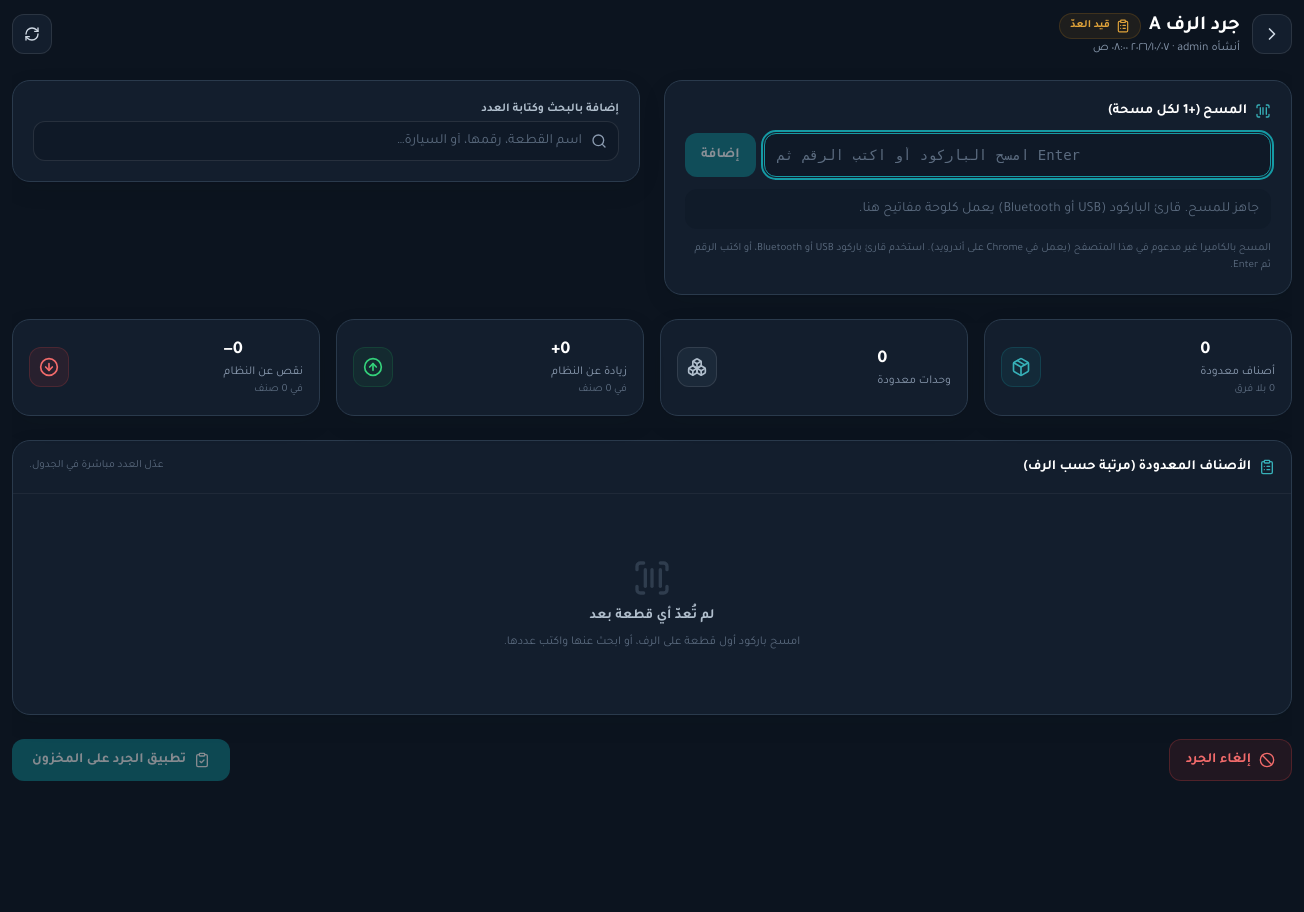
Test case: StockCountSheet › كل مسحة +1، والمسحات تُرسل بالتتابع لا بالتوازي
This screenshot has width=1304, height=912.
Type "OF-100" into the field named "الباركود أو رقم القطعة" at (1017, 155), box [764,133,1271,177]
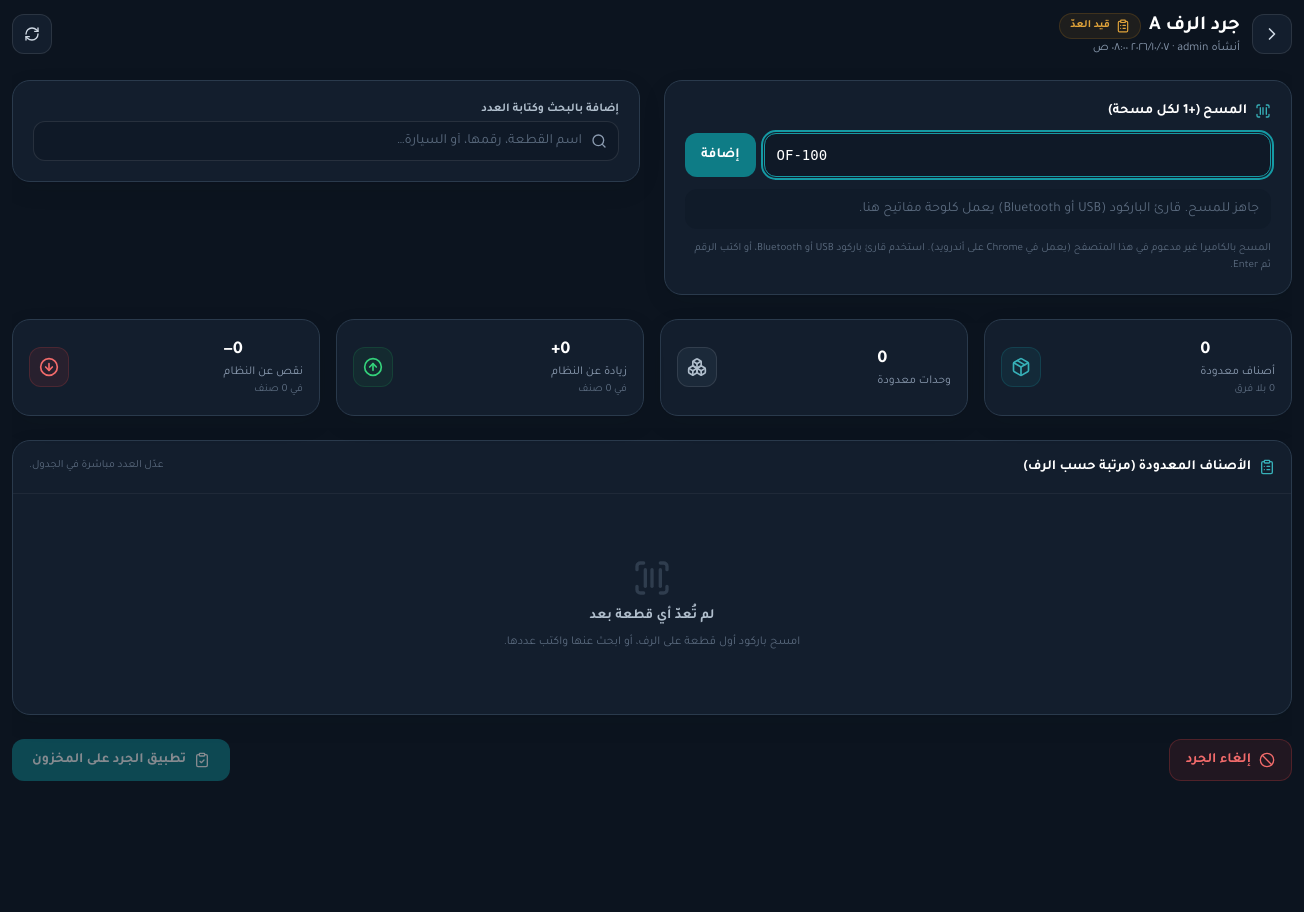
Submit the form named "الباركود أو رقم القطعة", box [685,133,1271,177]
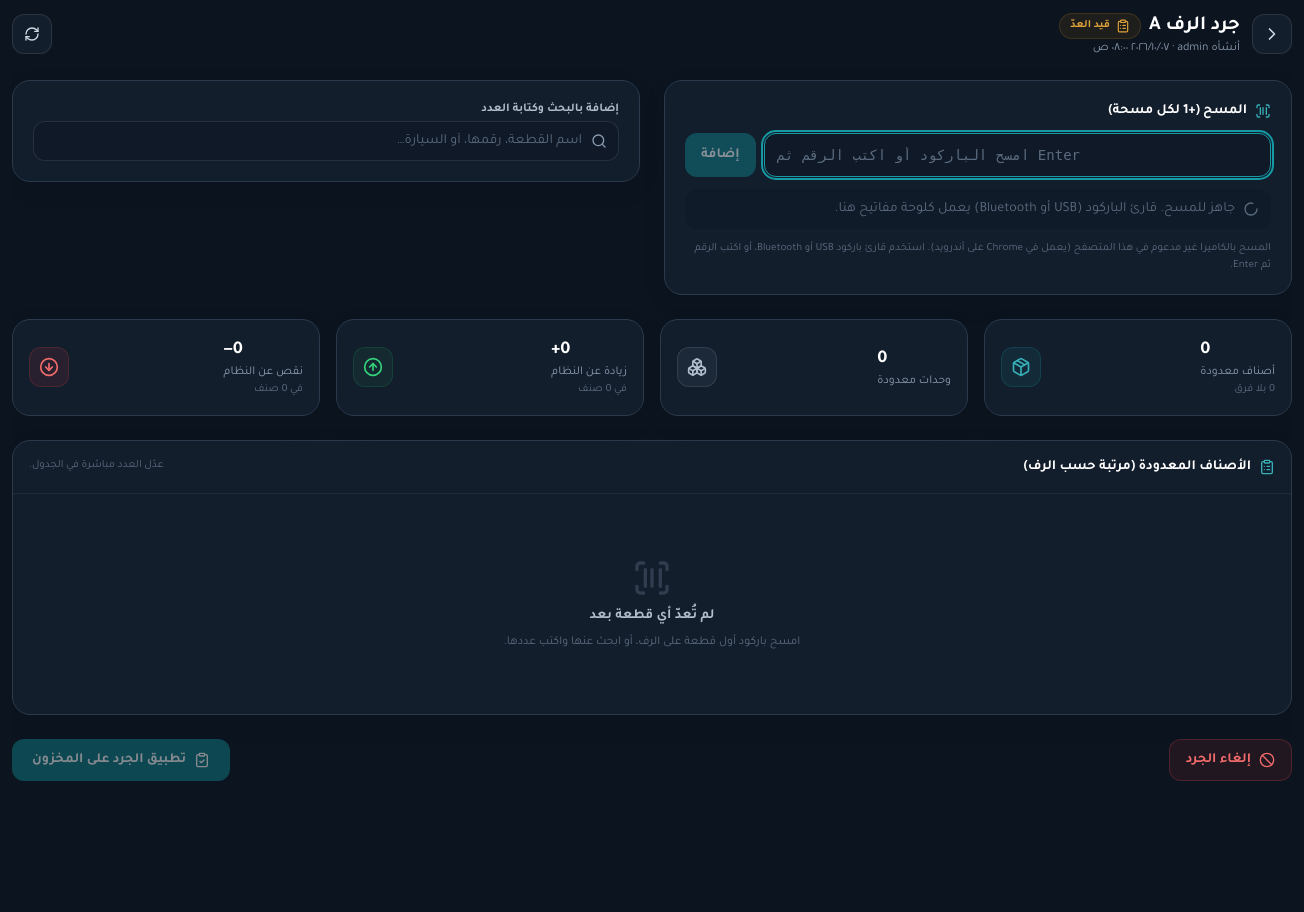
Type " OF-١٠٠ " into the field named "الباركود أو رقم القطعة" at (1017, 155), box [764,133,1271,177]
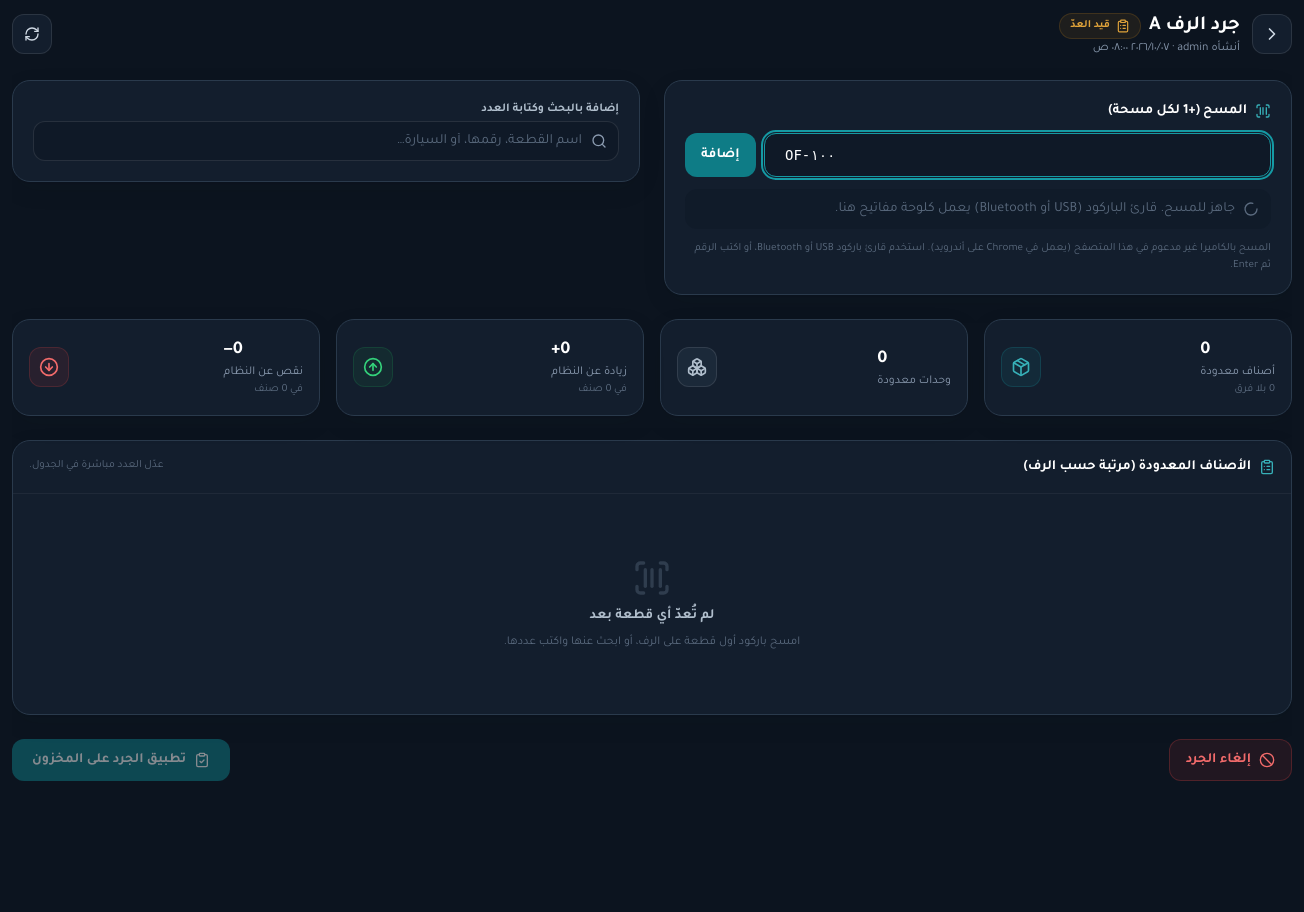
Submit the form named "الباركود أو رقم القطعة", box [685,133,1271,177]
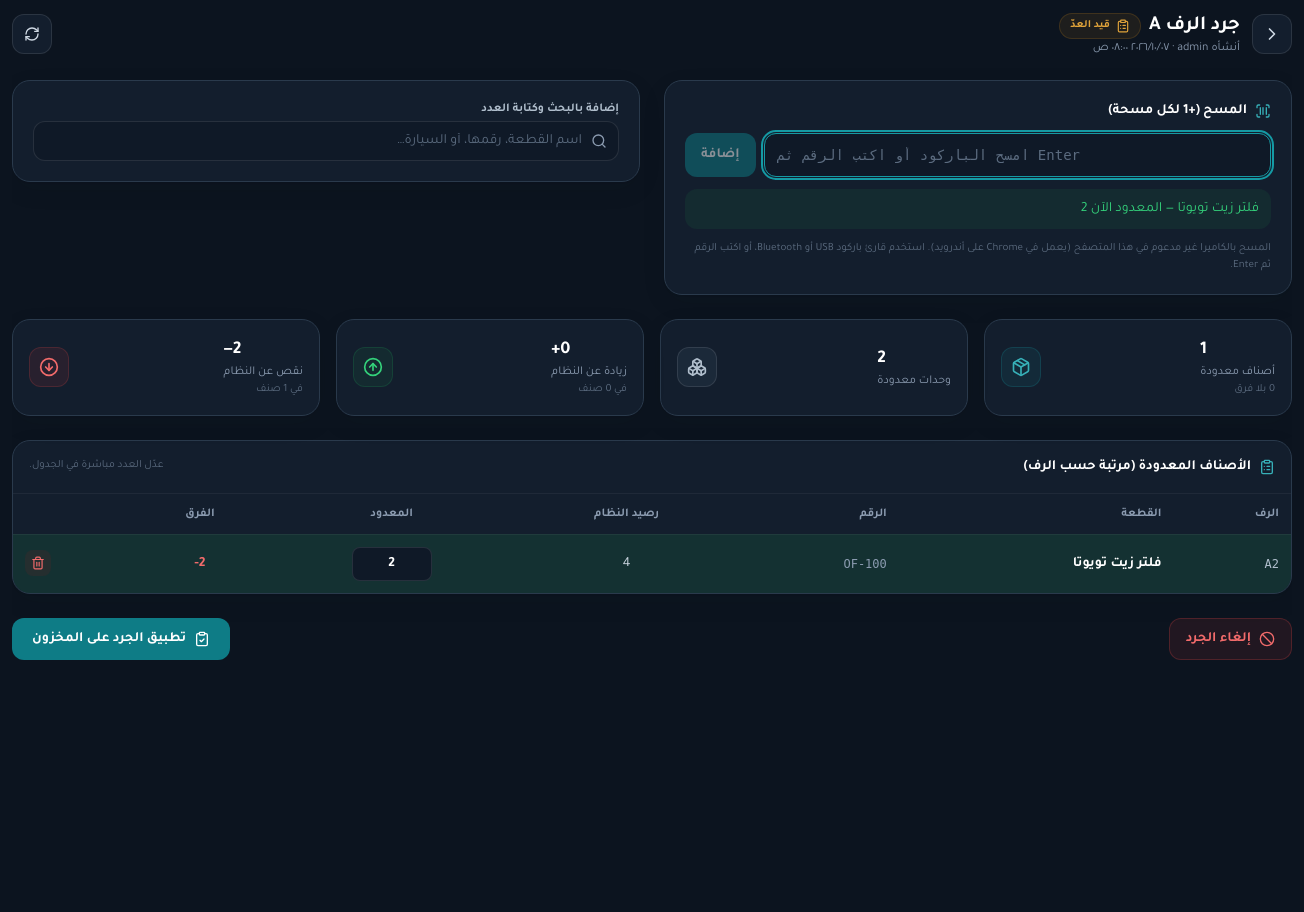
Result: the text "فلتر زيت تويوتا — المعدود الآن 2" is shown at [1081,202,1259,216]
Result: the cell "فلتر زيت تويوتا" is shown at [899,534,1174,592]
